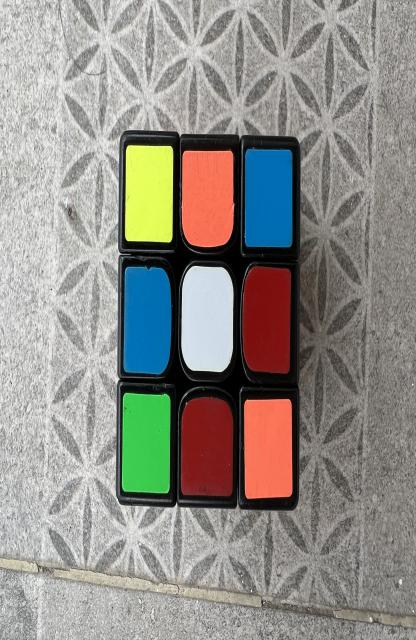Blue: (124, 267, 171, 375), (245, 148, 292, 247)
Green: (122, 393, 171, 493)
Orange: (181, 150, 235, 247), (245, 398, 292, 498)
Red: (181, 397, 233, 497), (242, 267, 291, 373)
White: (181, 265, 234, 372)
Yellow: (125, 145, 173, 242)
